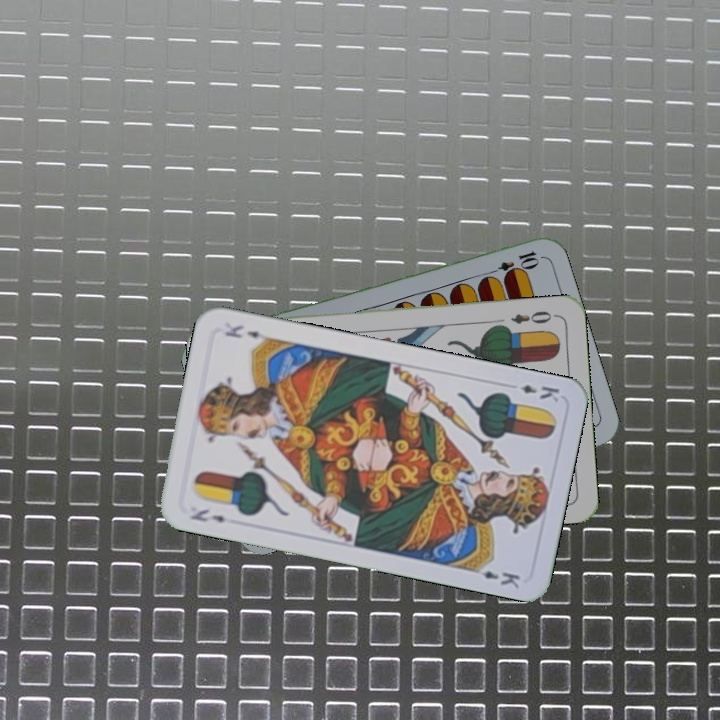E10: (483, 247, 542, 280)
EK: (516, 380, 562, 405), (186, 505, 228, 525)
EO: (507, 306, 559, 326)
